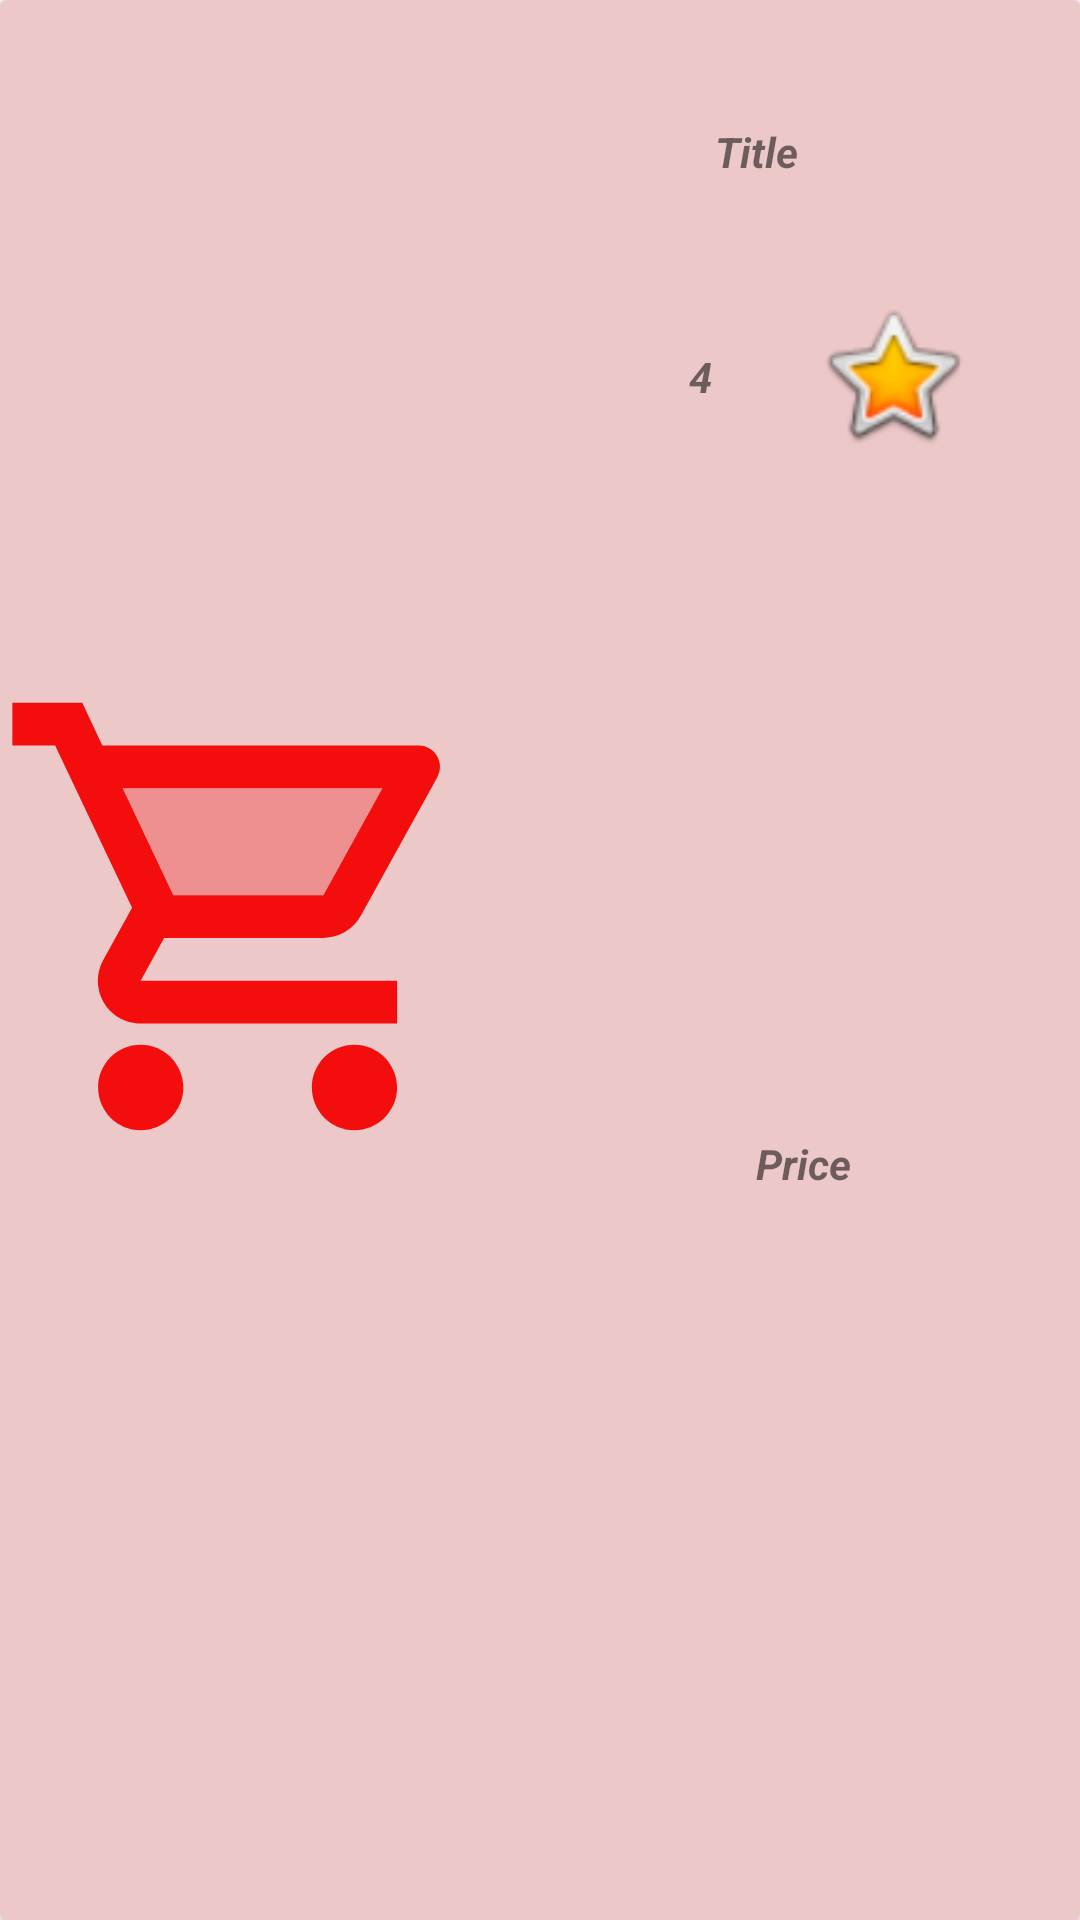

Icon bounding boxes for this 1080 x 1920 phone screenshot, format Rect(x1, y1, x2, y2):
star on: Rect(827, 312, 960, 441)
